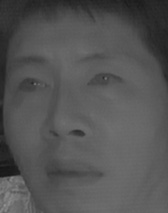eye: (83, 69, 126, 96), (14, 75, 54, 98)
mouth: (44, 154, 107, 192)
